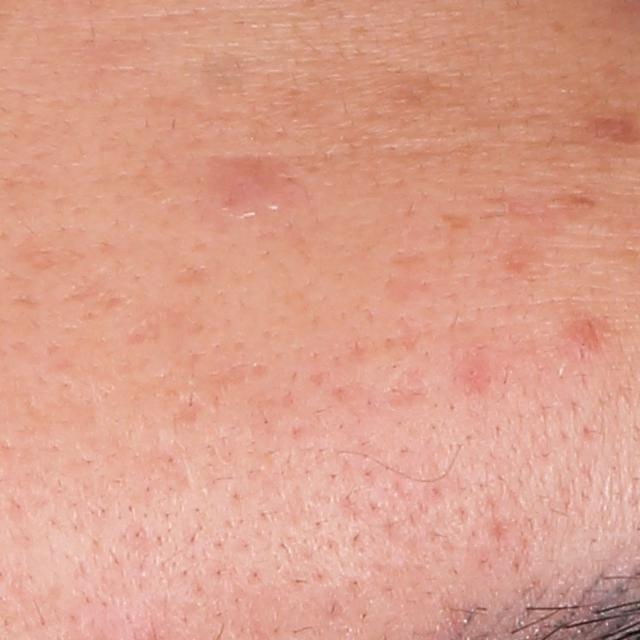atrophic_scar: (119, 302, 206, 350), (62, 276, 129, 315), (385, 310, 433, 358), (385, 363, 431, 410), (171, 394, 204, 430)
